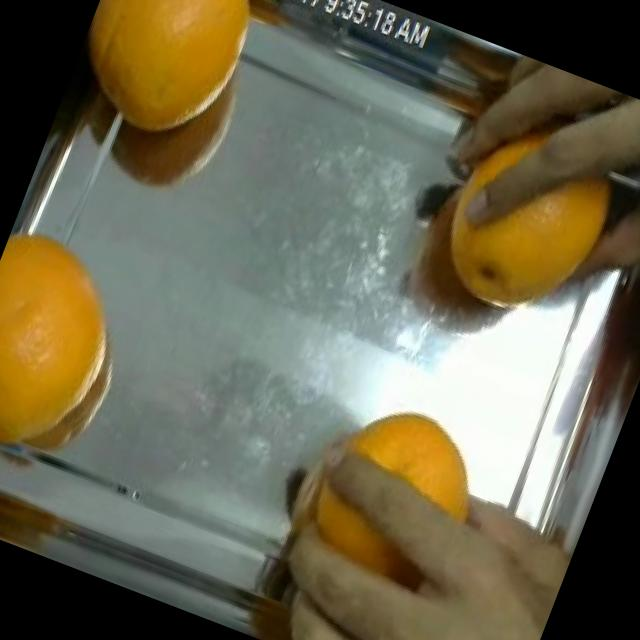Fruit: (56, 0, 277, 170)
